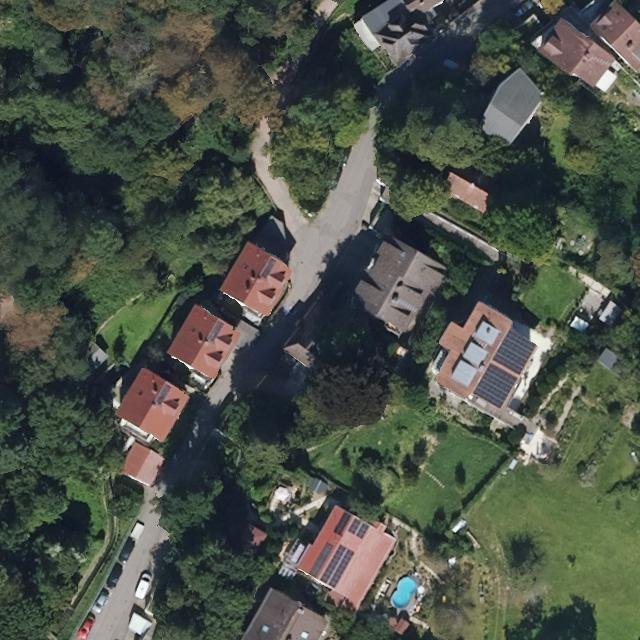PV: (469, 360, 522, 411), (491, 327, 541, 377), (315, 541, 358, 592), (307, 539, 336, 579), (344, 515, 373, 541), (331, 512, 354, 539), (153, 382, 172, 408), (208, 321, 225, 343), (261, 258, 276, 280)
